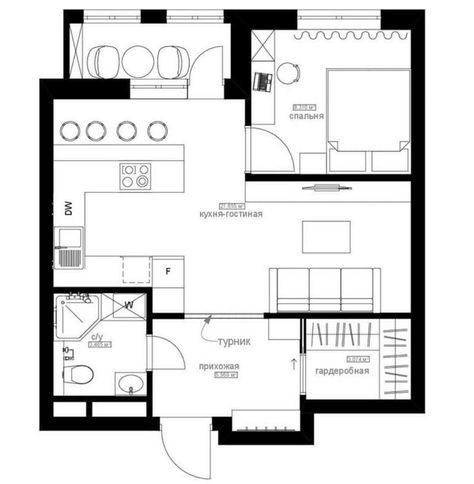door: (158, 418, 218, 483), (238, 126, 301, 176), (184, 39, 232, 98), (144, 333, 193, 375)
room: (41, 81, 242, 292), (150, 178, 417, 319), (244, 7, 413, 181), (150, 315, 313, 447), (41, 286, 157, 429), (64, 8, 236, 100), (301, 313, 416, 399)
wall: (403, 1, 435, 426), (34, 72, 58, 437), (223, 4, 260, 125), (212, 416, 318, 458), (35, 407, 161, 441), (30, 70, 133, 107), (37, 274, 156, 303), (296, 395, 434, 419), (244, 169, 428, 187), (262, 306, 421, 323), (223, 3, 301, 36), (36, 388, 155, 408), (379, 3, 431, 36), (293, 395, 321, 450), (57, 2, 74, 88), (138, 280, 160, 335), (142, 370, 160, 434), (143, 306, 185, 326), (141, 2, 169, 30), (210, 410, 237, 434), (57, 4, 84, 26)
window: (297, 2, 382, 36), (184, 301, 265, 333), (131, 72, 191, 102), (164, 1, 225, 29), (83, 3, 141, 27), (291, 350, 315, 398)
